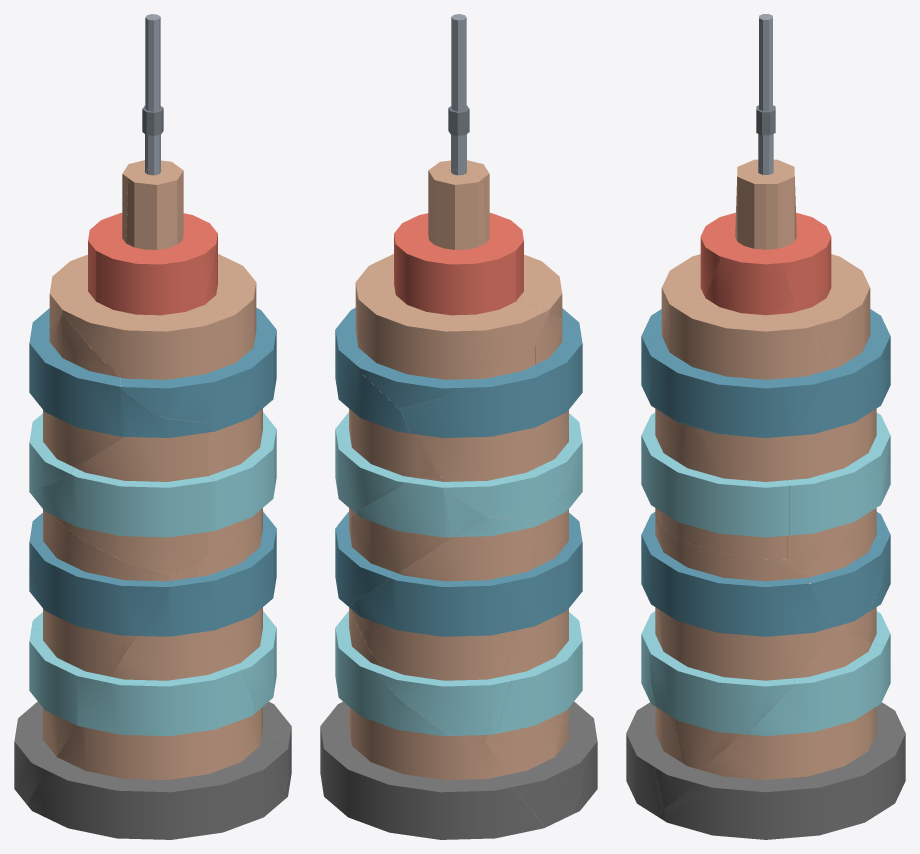
File: BigHouse 3.1 Fractured.fbx
The picture shows the model from 3 angles, left to right: view 1: azimuth 30°, elevation 25°; view 2: azimuth 150°, elevation 25°; view 3: azimuth 270°, elevation 25°; orthographic projection.
Visible parts, largest first — view 1: BigHouse_Type3_1_Brothers_cell.009, BigHouse_Type3_1_Brothers_cell, BigHouse_Type3_1_Brothers_cell.005, BigHouse_Type3_1_Brothers_cell.014, BigHouse_Type3_1_Brothers_cell.013, BigHouse_Type3_1_Brothers_cell.011, BigHouse_Type3_1_Brothers_cell.004, BigHouse_Type3_1_Brothers_cell.001, BigHouse_Type3_1_Brothers_cell.012, BigHouse_Type3_1_Brothers_cell.002, BigHouse_Type3_1_Brothers_cell.010, BigHouse_Type3_1_Brothers_cell.006 (+1 smaller); view 2: BigHouse_Type3_1_Brothers_cell.012, BigHouse_Type3_1_Brothers_cell.008, BigHouse_Type3_1_Brothers_cell.006, BigHouse_Type3_1_Brothers_cell.005, BigHouse_Type3_1_Brothers_cell.010, BigHouse_Type3_1_Brothers_cell.007, BigHouse_Type3_1_Brothers_cell.003, BigHouse_Type3_1_Brothers_cell.013, BigHouse_Type3_1_Brothers_cell, BigHouse_Type3_1_Brothers_cell.009, BigHouse_Type3_1_Brothers_cell.002, BigHouse_Type3_1_Brothers_cell.004 (+1 smaller); view 3: BigHouse_Type3_1_Brothers_cell.011, BigHouse_Type3_1_Brothers_cell.006, BigHouse_Type3_1_Brothers_cell.004, BigHouse_Type3_1_Brothers_cell.001, BigHouse_Type3_1_Brothers_cell.003, BigHouse_Type3_1_Brothers_cell.012, BigHouse_Type3_1_Brothers_cell, BigHouse_Type3_1_Brothers_cell.007, BigHouse_Type3_1_Brothers_cell.009, BigHouse_Type3_1_Brothers_cell.002, BigHouse_Type3_1_Brothers_cell.008.
Part boxes in pixels (left/top/right/bottom): BigHouse_Type3_1_Brothers_cell.009: left=26, top=570, right=284, bottom=839; BigHouse_Type3_1_Brothers_cell: left=62, top=166, right=229, bottom=422; BigHouse_Type3_1_Brothers_cell.005: left=14, top=514, right=176, bottom=802; BigHouse_Type3_1_Brothers_cell.014: left=35, top=416, right=215, bottom=574; BigHouse_Type3_1_Brothers_cell.013: left=37, top=313, right=156, bottom=485; BigHouse_Type3_1_Brothers_cell.011: left=194, top=508, right=290, bottom=788; BigHouse_Type3_1_Brothers_cell.004: left=187, top=218, right=276, bottom=431; BigHouse_Type3_1_Brothers_cell.001: left=208, top=383, right=276, bottom=553; BigHouse_Type3_1_Brothers_cell.012: left=44, top=160, right=198, bottom=330; BigHouse_Type3_1_Brothers_cell.002: left=142, top=14, right=163, bottom=169; BigHouse_Type3_1_Brothers_cell.010: left=29, top=313, right=56, bottom=496; BigHouse_Type3_1_Brothers_cell.006: left=14, top=701, right=291, bottom=800; BigHouse_Type3_1_Brothers_cell.012: left=356, top=166, right=549, bottom=409; BigHouse_Type3_1_Brothers_cell.008: left=349, top=516, right=548, bottom=738; BigHouse_Type3_1_Brothers_cell.006: left=320, top=608, right=544, bottom=839; BigHouse_Type3_1_Brothers_cell.005: left=483, top=511, right=587, bottom=827; BigHouse_Type3_1_Brothers_cell.010: left=400, top=346, right=550, bottom=520; BigHouse_Type3_1_Brothers_cell.007: left=335, top=469, right=484, bottom=606; BigHouse_Type3_1_Brothers_cell.003: left=335, top=332, right=432, bottom=519; BigHouse_Type3_1_Brothers_cell.013: left=535, top=313, right=582, bottom=502; BigHouse_Type3_1_Brothers_cell: left=425, top=160, right=579, bottom=326; BigHouse_Type3_1_Brothers_cell.009: left=555, top=612, right=597, bottom=816; BigHouse_Type3_1_Brothers_cell.002: left=448, top=14, right=469, bottom=169; BigHouse_Type3_1_Brothers_cell.004: left=335, top=213, right=428, bottom=344; BigHouse_Type3_1_Brothers_cell.011: left=641, top=513, right=832, bottom=809; BigHouse_Type3_1_Brothers_cell.006: left=660, top=631, right=905, bottom=839; BigHouse_Type3_1_Brothers_cell.004: left=641, top=253, right=825, bottom=437; BigHouse_Type3_1_Brothers_cell.001: left=641, top=405, right=789, bottom=559; BigHouse_Type3_1_Brothers_cell.003: left=787, top=359, right=890, bottom=571; BigHouse_Type3_1_Brothers_cell.012: left=766, top=159, right=890, bottom=360; BigHouse_Type3_1_Brothers_cell: left=641, top=159, right=765, bottom=358; BigHouse_Type3_1_Brothers_cell.007: left=800, top=415, right=890, bottom=631; BigHouse_Type3_1_Brothers_cell.009: left=626, top=514, right=683, bottom=817; BigHouse_Type3_1_Brothers_cell.002: left=756, top=14, right=775, bottom=172; BigHouse_Type3_1_Brothers_cell.008: left=837, top=512, right=890, bottom=650.
Bounding box in the file's own units: 533 × 1608 × 533.
